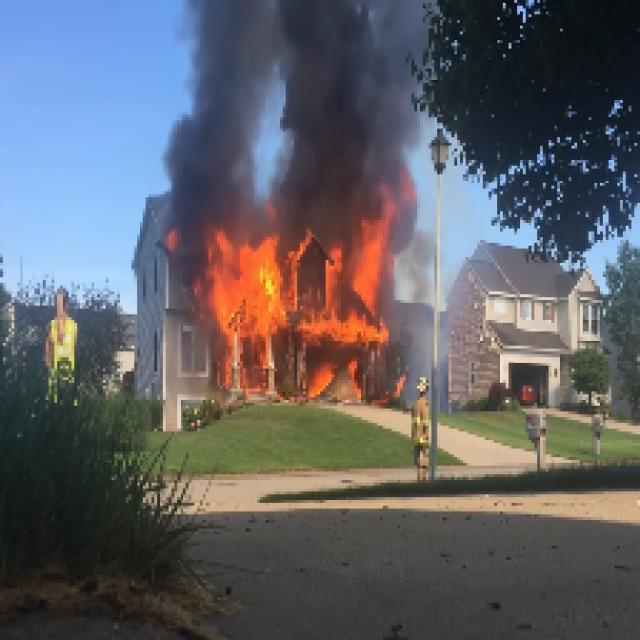Fire: (166, 2, 260, 212), (203, 237, 383, 334)
Smoke: (274, 3, 417, 166), (394, 218, 432, 366)
